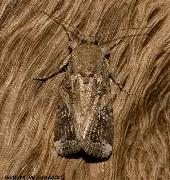army worm adult: (35, 19, 125, 166)
